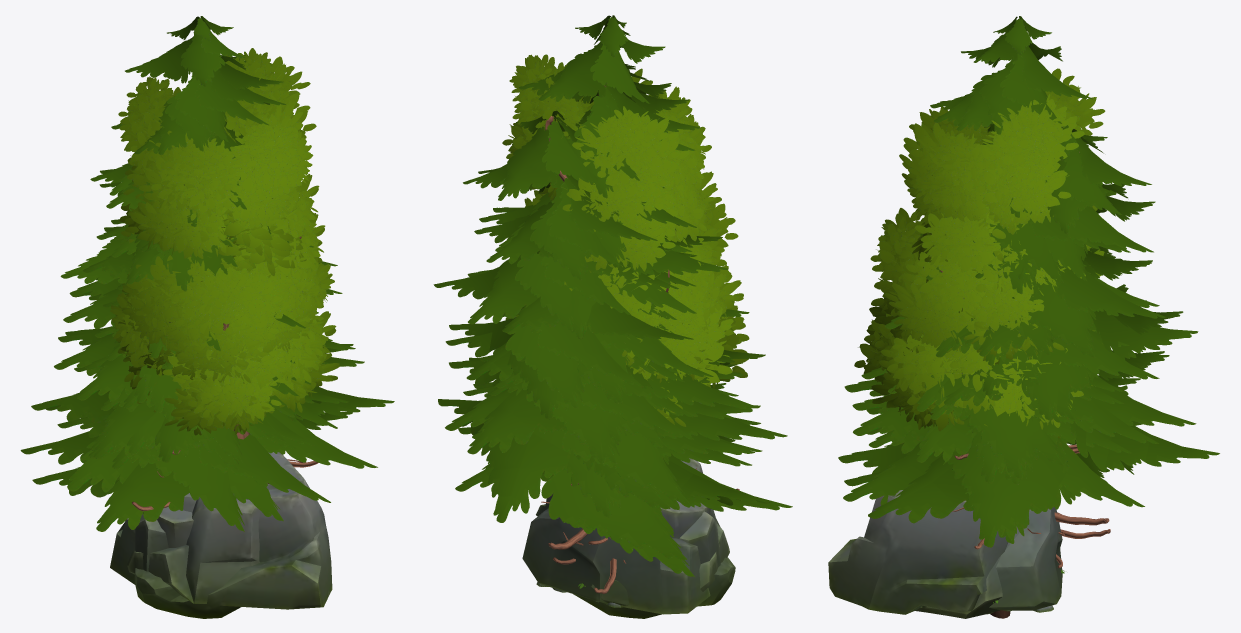
File: nature.glb
3 renders of one model, left to right at view 1: azimuth 30°, elevation 25°; view 2: azimuth 150°, elevation 25°; view 3: azimuth 270°, elevation 25°, orthographic. The views are drawn at different scales.
Visible parts, largest first — view 1: CommonTree_3, Pine_4, Pine_5, CommonTree_4, Rock_Medium_3, CommonTree_1, Pine_2, CommonTree_2, Rock_Medium_1, Pine_1, Rock_Medium_2, CommonTree_5 (+1 smaller); view 2: Pine_5, Pine_4, CommonTree_3, Rock_Medium_2, CommonTree_4, Pine_2, CommonTree_1, CommonTree_2, Pine_1, Rock_Medium_3, Rock_Medium_1, CommonTree_5 (+1 smaller); view 3: Pine_5, Pine_4, CommonTree_4, Rock_Medium_3, CommonTree_3, Pine_2, CommonTree_2, CommonTree_1, Rock_Medium_2, Pine_1, CommonTree_5, Rock_Medium_1 (+1 smaller).
Part boxes in pixels (x1,y1,x2,y2): CommonTree_3: (118,55,334,389); Pine_4: (31,16,355,511); Pine_5: (20,163,394,521); CommonTree_4: (125,48,319,238); Rock_Medium_3: (135,452,332,618); CommonTree_1: (115,222,339,435); Pine_2: (32,238,352,531); CommonTree_2: (110,203,336,439); Rock_Medium_1: (127,497,260,603); Pine_1: (57,235,330,483); Rock_Medium_2: (110,506,193,584); CommonTree_5: (120,231,316,430); Pine_5: (433,110,770,559); Pine_4: (445,15,787,593); CommonTree_3: (530,62,738,380); Rock_Medium_2: (522,500,710,614); CommonTree_4: (502,54,711,292); Pine_2: (455,249,792,577); CommonTree_1: (542,193,748,426); CommonTree_2: (505,194,749,384); Pine_1: (472,239,762,549); Rock_Medium_3: (536,493,735,606); Rock_Medium_1: (547,458,729,618); CommonTree_5: (564,266,733,430); Pine_5: (844,125,1219,547); Pine_4: (844,16,1169,549); CommonTree_4: (899,68,1105,618); Rock_Medium_3: (828,490,1008,614); CommonTree_3: (868,94,1103,618); Pine_2: (838,272,1144,543); CommonTree_2: (854,199,1092,617); CommonTree_1: (863,221,1103,615); Rock_Medium_2: (989,507,1062,610); Pine_1: (866,264,1140,525); CommonTree_5: (905,245,1104,413); Rock_Medium_1: (915,526,1019,618).
Size of the model in its own units: 6.42 by 10.32 by 6.36.
10 materials, 10 textured.
